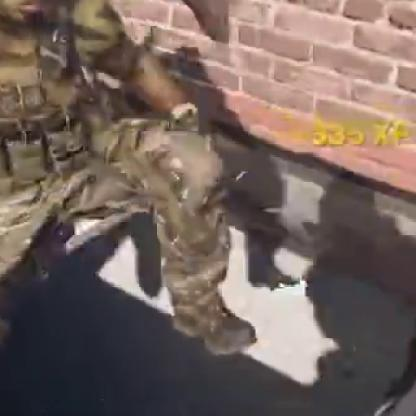enemy: (1, 1, 308, 363)
